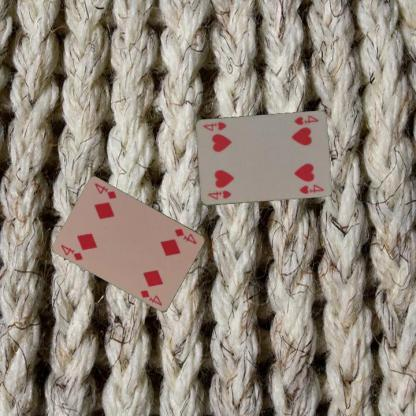4d: (172, 226, 198, 246), (58, 242, 84, 262)
4h: (204, 188, 232, 202), (292, 112, 320, 126)
